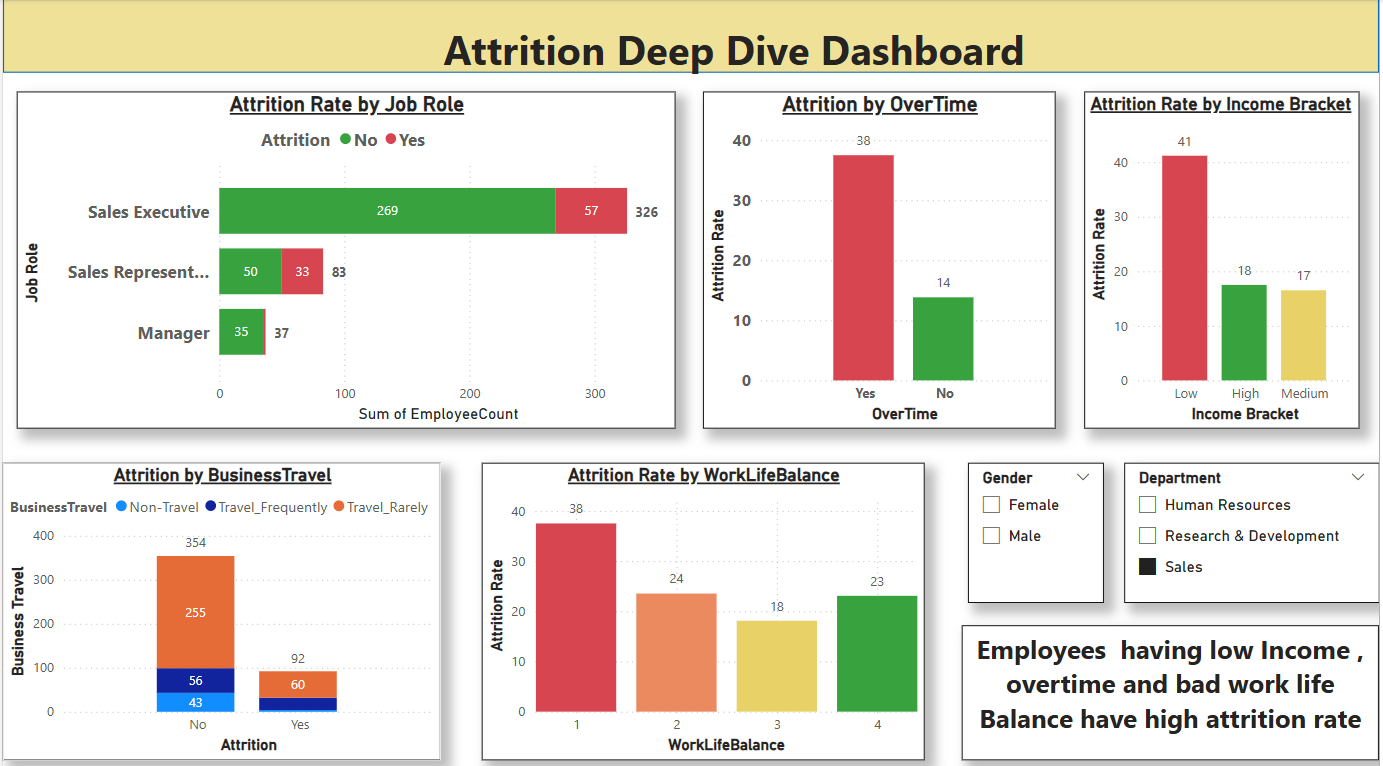

This screenshot's page, from the dashboard's own definition file:
{"tool":"powerbi","page":{"name":"Page 2","canvas":[1280,720],"ordinal":1},"visuals":[{"type":"barChart","title":"Attrition Rate by Job Role","fields":{"Category":["Employee.JobRole"],"Series":["Employee.Attrition"],"Y":["Sum(Employee.EmployeeCount)"]},"box":[12.8,86,612.8,314],"z":0},{"type":"shape","box":[0,0,1280.2,68.6],"z":1},{"type":"textbox","box":[0,16.3,1280.2,103.5],"z":2},{"type":"columnChart","title":"Attrition by OverTime","fields":{"Category":["Employee.OverTime"],"Y":["Employee.Attrition Rate"]},"box":[651.2,86,327.9,314],"z":3},{"type":"columnChart","title":"Attrition by BusinessTravel","fields":{"Category":["Employee.Attrition"],"Y":["CountNonNull(Employee.BusinessTravel)"],"Series":["Employee.BusinessTravel"]},"box":[0,431.4,407,276.7],"z":4},{"type":"columnChart","fields":{"Category":["Employee.Income Bracket"],"Y":["Employee.Attrition Rate"]},"box":[1005.8,86,255.8,314],"z":5},{"type":"columnChart","fields":{"Category":["Employee.WorkLifeBalance"],"Y":["Employee.Attrition Rate"]},"box":[445.4,431.4,411.6,276.7],"z":6},{"type":"textbox","box":[891.9,582.6,388.4,125.6],"z":7},{"type":"slicer","fields":{"Values":["Employee.Gender"]},"box":[897.7,431.4,126.7,130.2],"z":8},{"type":"slicer","fields":{"Values":["Employee.Department"]},"box":[1043,431.4,237.2,130.2],"z":9}]}

Visuals, with their boxes in screenshot pixels (x1, y1, x2, y2), scaled from the page's 1280x720 canvas onto the 1383x766 screenshot:
"Attrition Rate by Job Role" barChart: [left=14, top=91, right=676, bottom=426]
shape: [left=0, top=0, right=1382, bottom=73]
textbox: [left=0, top=17, right=1382, bottom=127]
"Attrition by OverTime" columnChart: [left=704, top=91, right=1058, bottom=426]
"Attrition by BusinessTravel" columnChart: [left=0, top=459, right=440, bottom=753]
columnChart - Employee.Income Bracket x Employee.Attrition Rate: [left=1087, top=91, right=1363, bottom=426]
columnChart - Employee.WorkLifeBalance x Employee.Attrition Rate: [left=481, top=459, right=926, bottom=753]
textbox: [left=964, top=620, right=1382, bottom=753]
slicer - Employee.Gender: [left=970, top=459, right=1107, bottom=597]
slicer - Employee.Department: [left=1127, top=459, right=1382, bottom=597]
